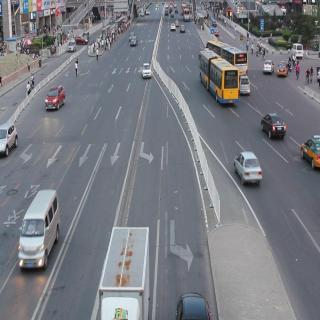BigCar: (100, 216, 152, 320), (201, 48, 235, 114)
Car: (18, 178, 61, 284), (233, 143, 267, 200), (296, 121, 320, 174), (259, 103, 285, 145), (46, 74, 68, 120), (288, 29, 310, 70), (0, 106, 16, 160), (138, 55, 157, 87), (276, 52, 290, 84), (240, 70, 252, 104), (169, 17, 188, 36), (264, 53, 274, 86), (127, 29, 140, 44)
